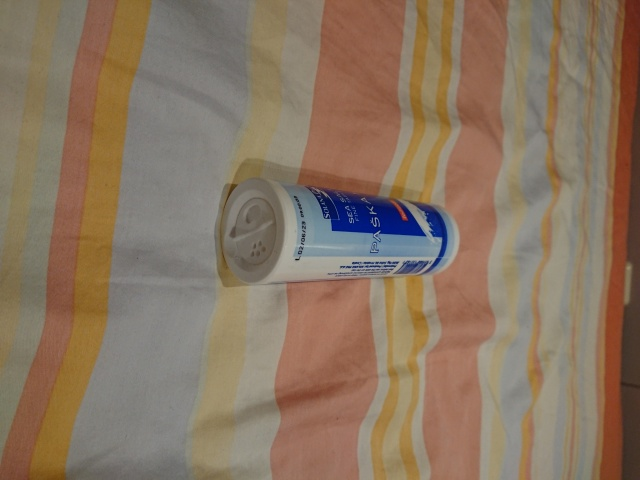Solana Pag Fine Sea Salt 250g: (217, 175, 463, 287)
